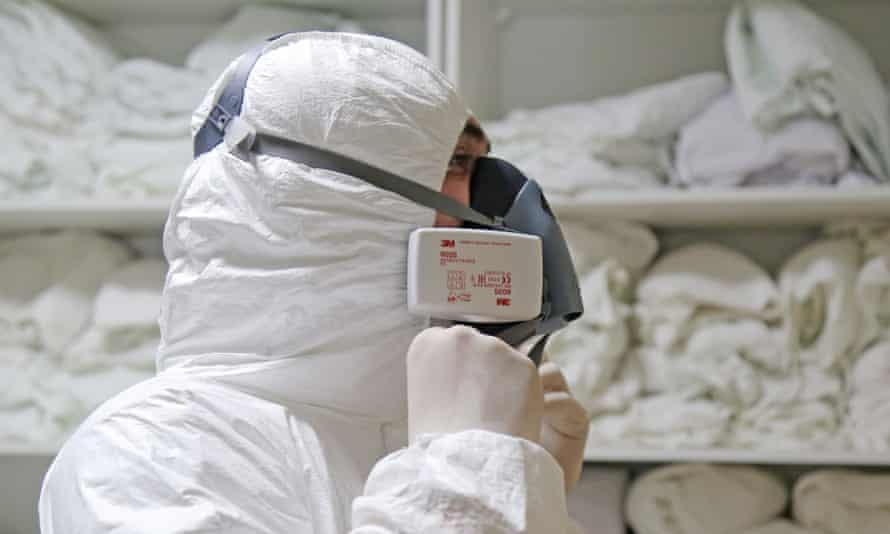Coverall: (38, 30, 572, 534)
Gloves: (399, 324, 549, 479), (527, 359, 593, 511)
with_mask: (434, 125, 586, 344)
